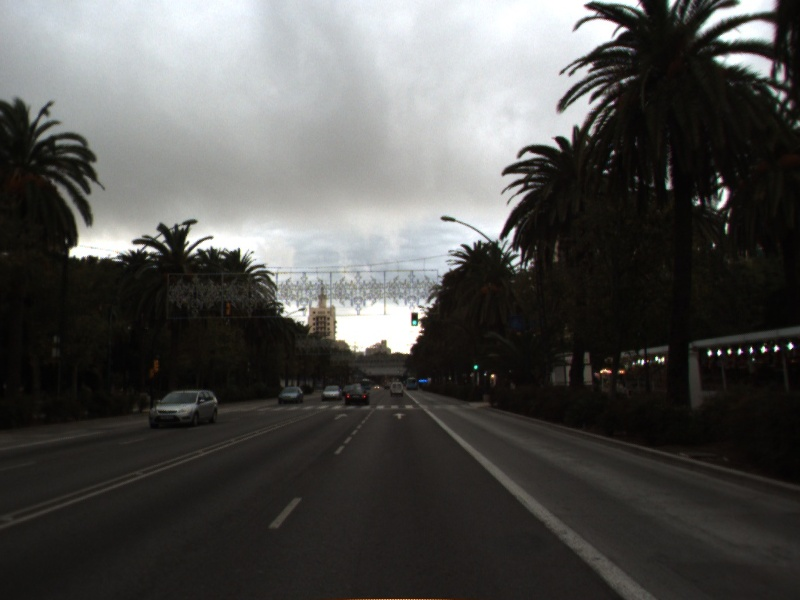STRAIGHT: (331, 411, 351, 422), (391, 411, 409, 421)
